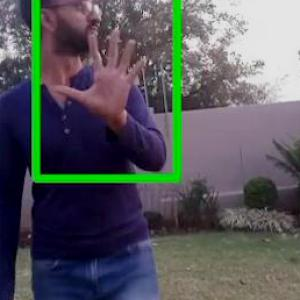follow_hand: (50, 24, 150, 121)
